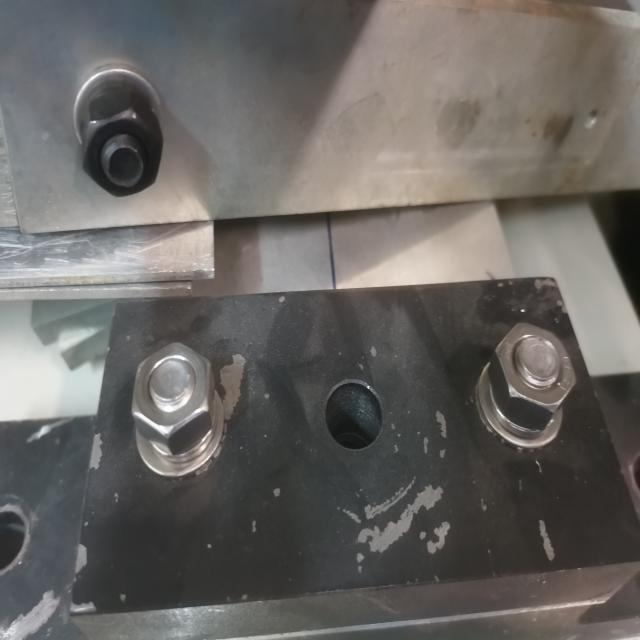bolt nut: (486, 320, 578, 433), (130, 341, 216, 456), (78, 87, 164, 199)
